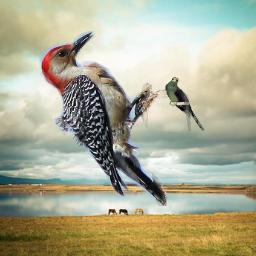Cuckoo: (165, 77, 207, 131)
Woodpecker: (39, 31, 168, 206)
